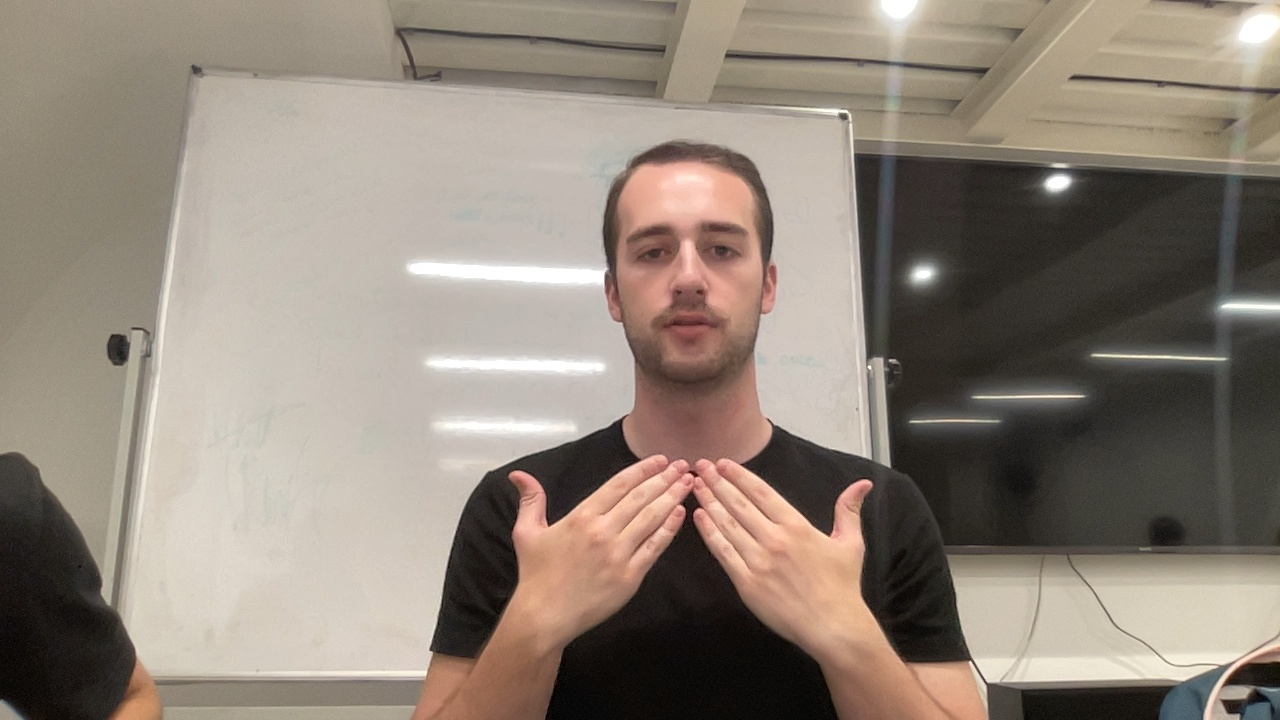Thank You: (503, 455, 881, 655)
